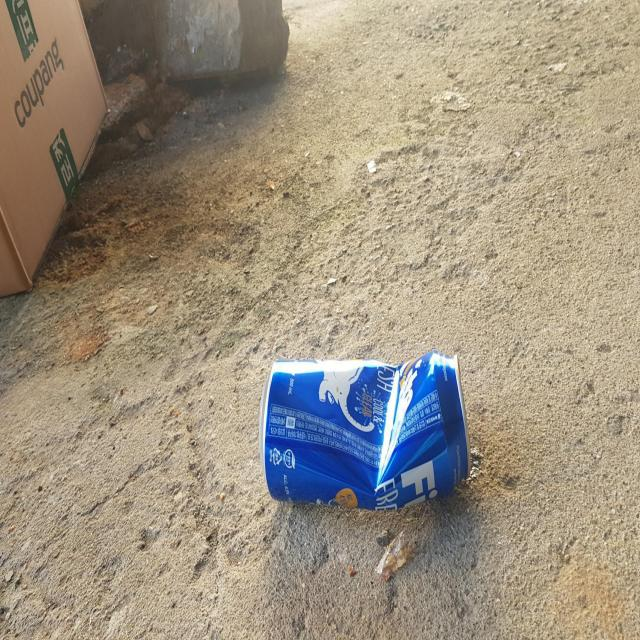can: (259, 351, 472, 510)
